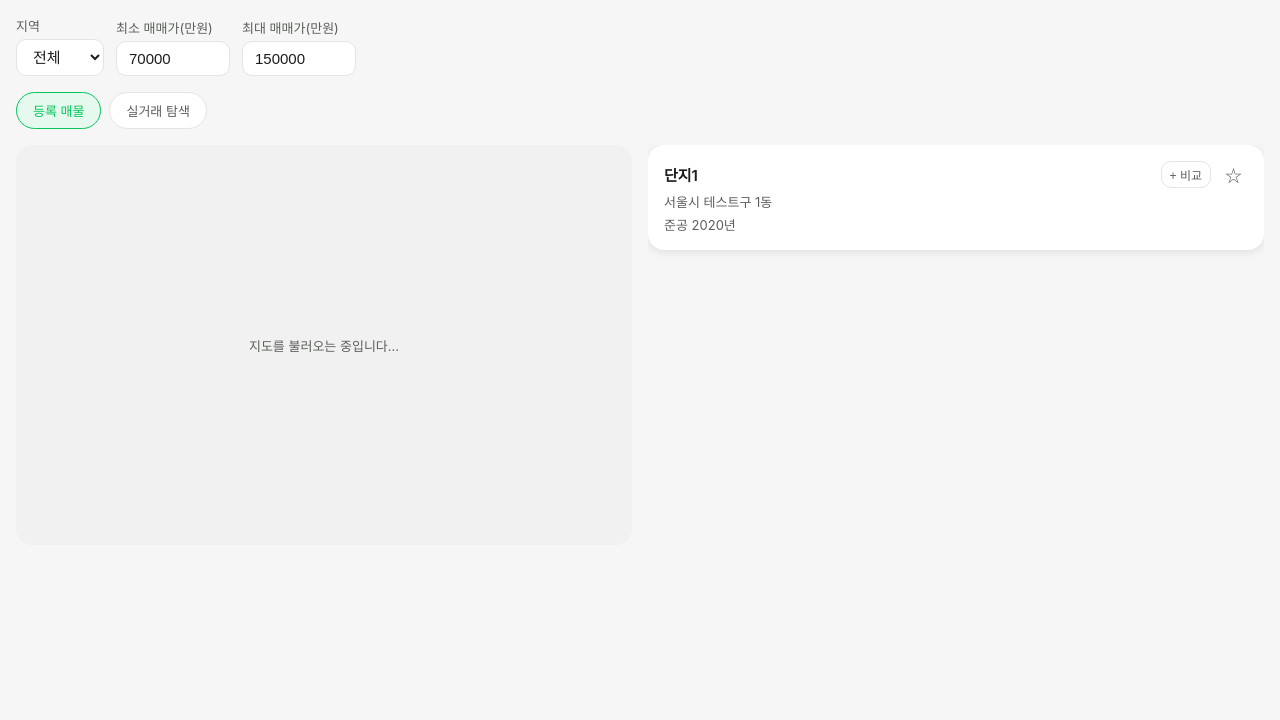
it: ListingSearchScreen › 비교셋에 추가 아이콘을 클릭하면 선택되고 하단 비교하기 바가 표시된다
The image size is (1280, 720).
expect the text "비교하기" is not shown: met
Click the button with aria-label "비교셋에 추가" at (1186,174), box [1161,161,1211,188]
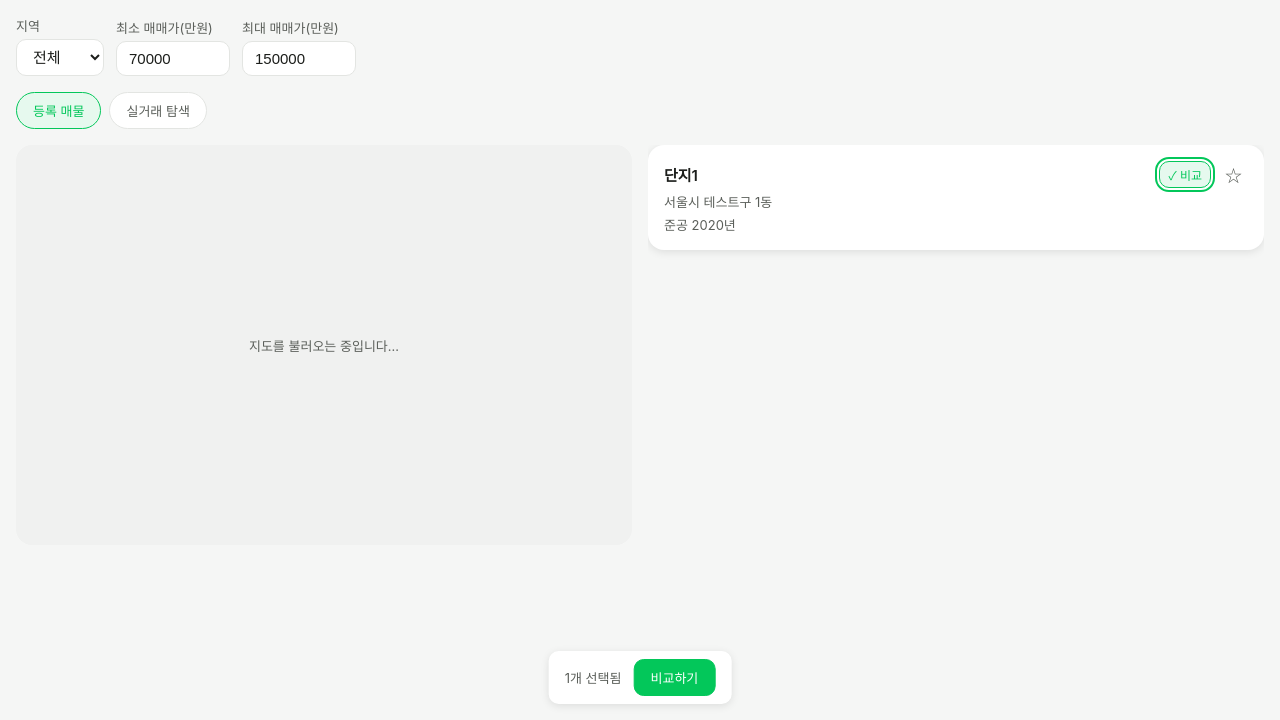
expect the text "1개 선택됨" is shown: met, box [565,668,622,687]
expect the button "비교하기" is shown: met, box [634,659,715,696]
